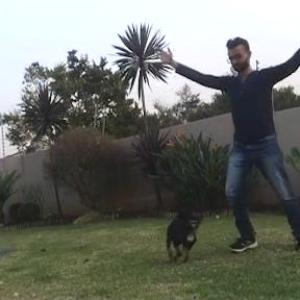takeoff: (196, 69, 299, 196)
